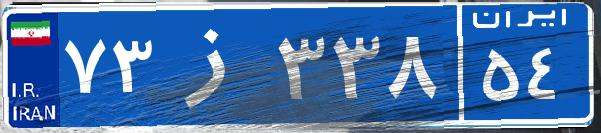3: (273, 28, 330, 110), (330, 28, 385, 110), (110, 28, 158, 105)
4: (525, 38, 570, 115)
5: (475, 38, 525, 113)
7: (57, 26, 110, 107)
8: (385, 28, 445, 110)
ز: (158, 15, 273, 115)
